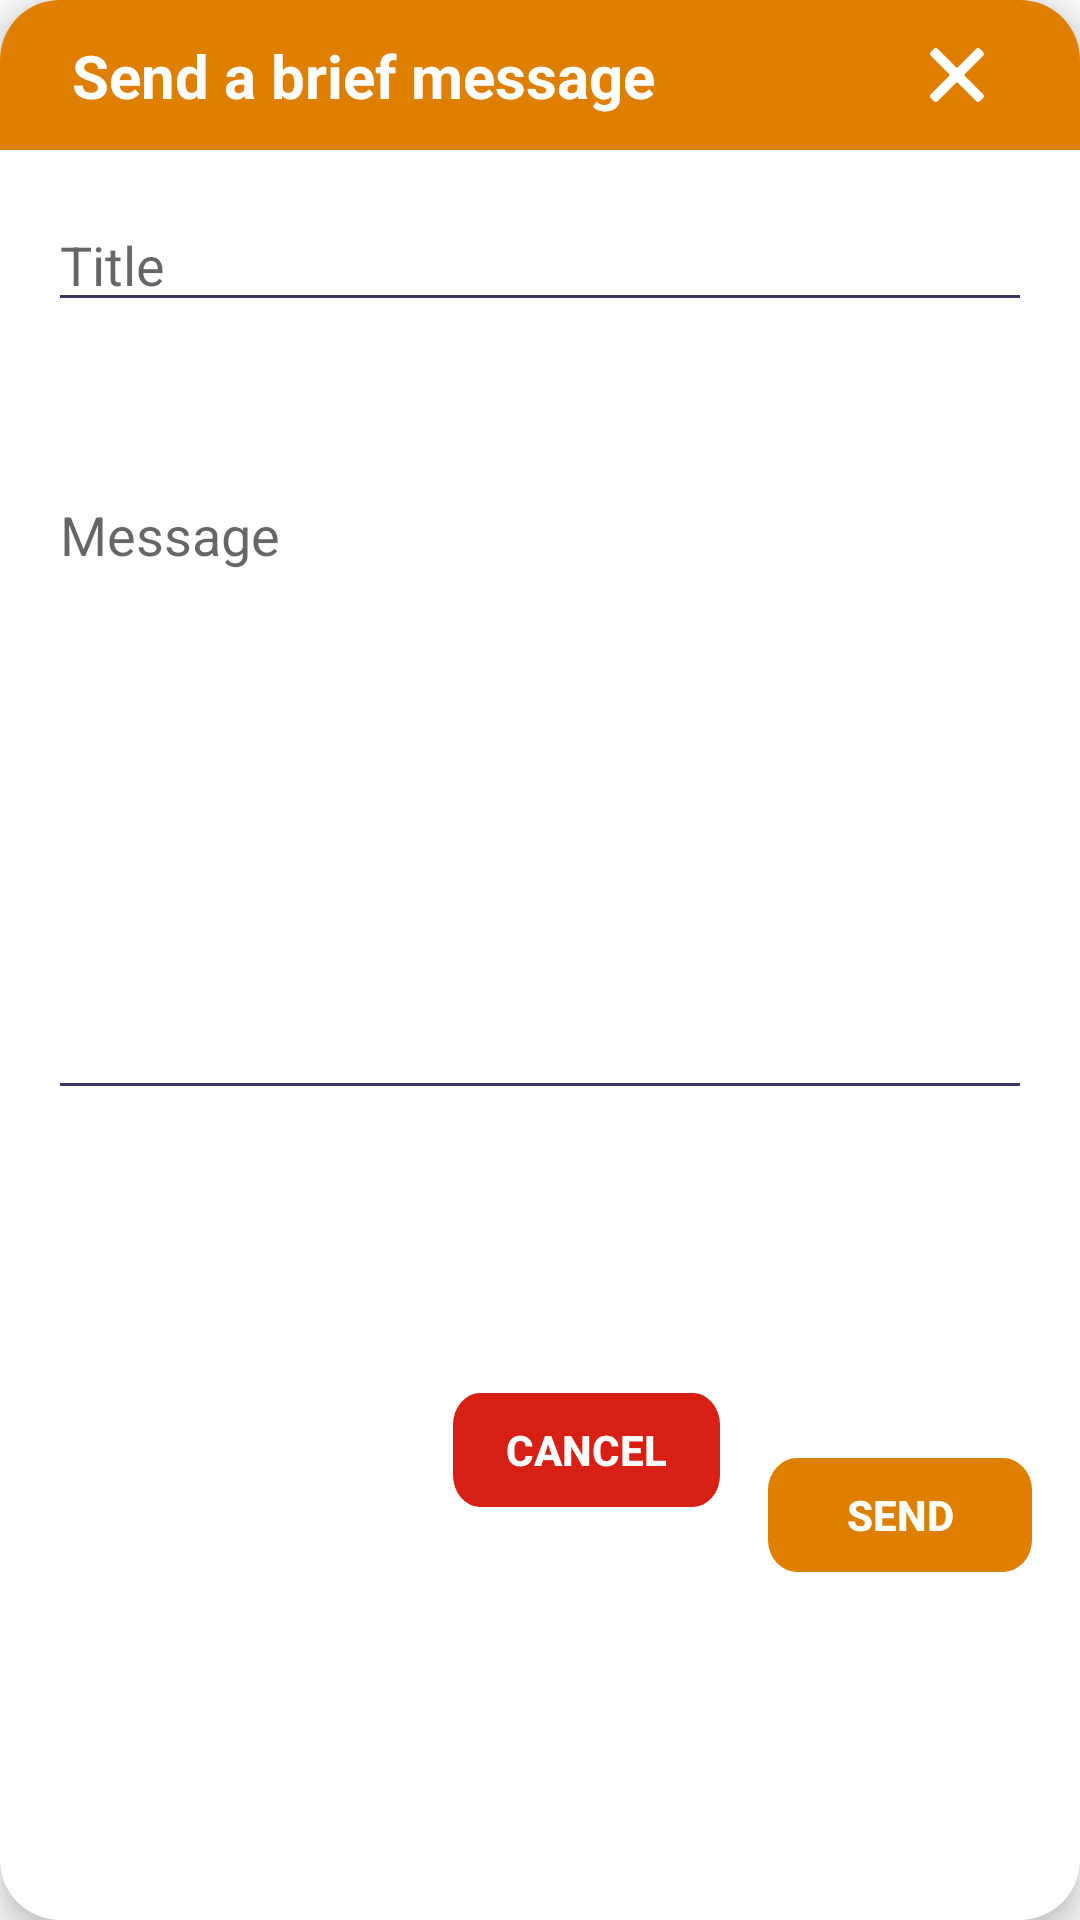

Where icons sit on this 1080 x 1920 app screen, as rect(x1, y1, x2, y2):
msg cancel: rect(930, 48, 984, 102)
